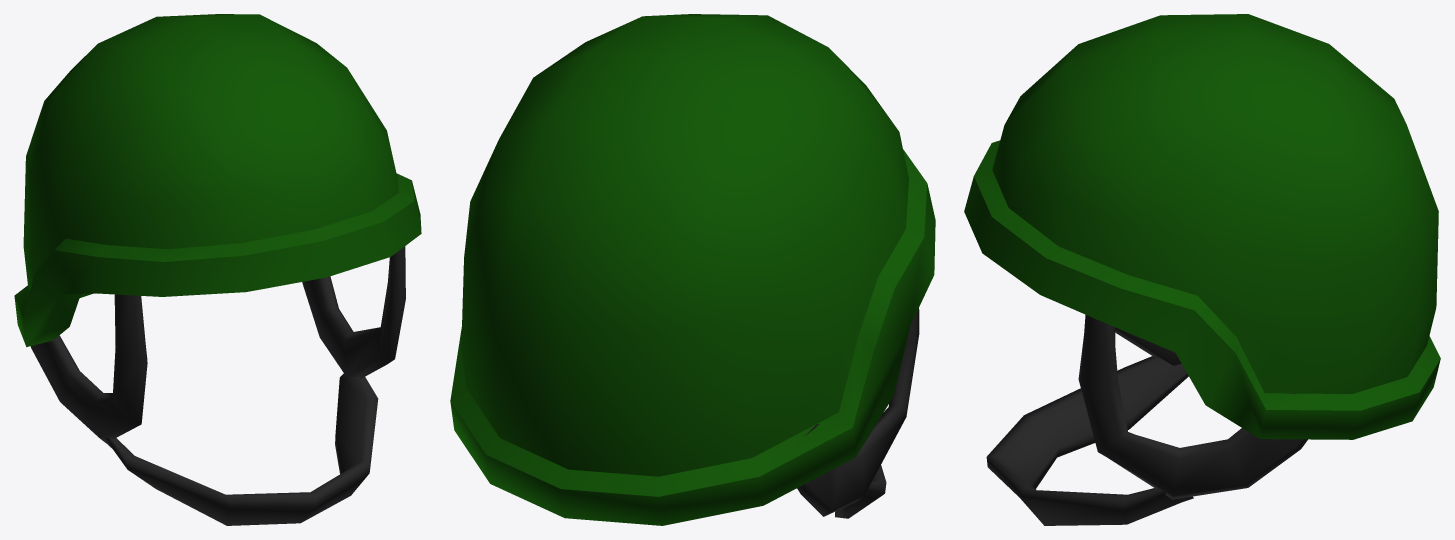
File: Army_Helmet.fbx
The picture shows the model from 3 angles, left to right: view 1: azimuth 30°, elevation 25°; view 2: azimuth 150°, elevation 25°; view 3: azimuth 270°, elevation 25°; orthographic projection. The views are drawn at different scales.
Parts seen in each view (by area): view 1: Helmet; view 2: Helmet; view 3: Helmet.
Boxes of the visible parts, x1,y1,x2,y2 form: Helmet: (14,14,421,525); Helmet: (450,14,935,525); Helmet: (964,14,1440,525).
Bounding box in the file's own units: 21.51 × 25.75 × 24.03.
